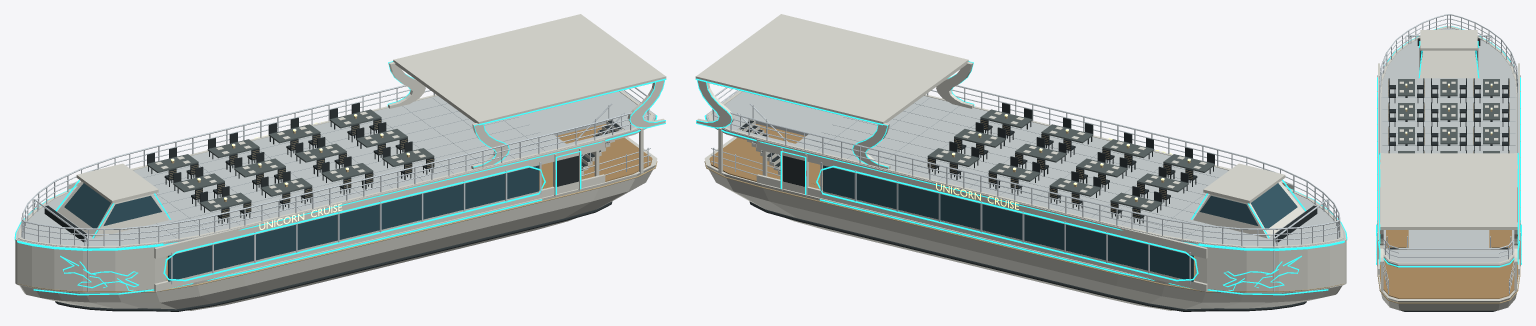
File: unicorn-exterior.glb
The picture shows the model from 3 angles, left to right: view 1: azimuth 30°, elevation 25°; view 2: azimuth 150°, elevation 25°; view 3: azimuth 270°, elevation 25°; orthographic projection. The views are drawn at different scales.
Visible parts, largest first — view 1: SM_UpperFloor_Floor, SM_Canopy_Pearl, SM_Hull_Pearl, SM_Cabin_Glass, SM_Cabin_Pearl, SM_UpperRails_Silver, SM_BowPanel_Pearl, SM_DecorFurniture_Cloth, SM_DecorFurniture_Dark, SM_Wheelhouse_Pearl, SM_LowerFloor_Wood, SM_UpperFloor_Pearl (+13 smaller); view 2: SM_UpperFloor_Floor, SM_Canopy_Pearl, SM_Hull_Pearl, SM_Cabin_Glass, SM_Cabin_Pearl, SM_UpperRails_Silver, SM_BowPanel_Pearl, SM_DecorFurniture_Cloth, SM_DecorFurniture_Dark, SM_Wheelhouse_Pearl, SM_LowerFloor_Wood, SM_UpperFloor_Pearl (+13 smaller); view 3: SM_UpperFloor_Floor, SM_Canopy_Pearl, SM_LowerFloor_Wood, SM_Wheelhouse_Pearl, SM_DecorFurniture_Cloth, SM_UpperRails_Silver, SM_DecorFurniture_Dark, SM_Hull_Pearl, SM_UpperFloor_Pearl, SM_Cabin_Pearl, SM_UpperFloor_Cyan, SM_DecorFurniture_Pearl (+8 smaller).
Part boxes in pixels (left/top/right/bottom): SM_UpperFloor_Floor: left=16, top=90, right=655, bottom=248; SM_Canopy_Pearl: left=388, top=14, right=666, bottom=169; SM_Hull_Pearl: left=19, top=136, right=657, bottom=310; SM_Cabin_Glass: left=168, top=165, right=538, bottom=281; SM_Cabin_Pearl: left=68, top=128, right=643, bottom=291; SM_UpperRails_Silver: left=21, top=85, right=649, bottom=246; SM_BowPanel_Pearl: left=15, top=202, right=166, bottom=292; SM_DecorFurniture_Cloth: left=147, top=109, right=434, bottom=211; SM_DecorFurniture_Dark: left=147, top=103, right=434, bottom=225; SM_Wheelhouse_Pearl: left=57, top=163, right=168, bottom=238; SM_LowerFloor_Wood: left=166, top=124, right=652, bottom=280; SM_UpperFloor_Pearl: left=18, top=91, right=653, bottom=247; SM_UpperFloor_Floor: left=706, top=90, right=1345, bottom=248; SM_Canopy_Pearl: left=695, top=14, right=973, bottom=169; SM_Hull_Pearl: left=704, top=136, right=1342, bottom=310; SM_Cabin_Glass: left=823, top=165, right=1193, bottom=281; SM_Cabin_Pearl: left=718, top=128, right=1293, bottom=291; SM_UpperRails_Silver: left=712, top=85, right=1340, bottom=246; SM_BowPanel_Pearl: left=1195, top=202, right=1346, bottom=292; SM_DecorFurniture_Cloth: left=927, top=109, right=1214, bottom=211; SM_DecorFurniture_Dark: left=927, top=103, right=1214, bottom=225; SM_Wheelhouse_Pearl: left=1193, top=163, right=1304, bottom=238; SM_LowerFloor_Wood: left=709, top=124, right=1195, bottom=280; SM_UpperFloor_Pearl: left=708, top=91, right=1343, bottom=247; SM_UpperFloor_Floor: left=1378, top=26, right=1519, bottom=267; SM_Canopy_Pearl: left=1380, top=153, right=1517, bottom=264; SM_LowerFloor_Wood: left=1379, top=230, right=1518, bottom=298; SM_Wheelhouse_Pearl: left=1419, top=30, right=1478, bottom=78; SM_DecorFurniture_Cloth: left=1398, top=79, right=1499, bottom=153; SM_UpperRails_Silver: left=1379, top=14, right=1518, bottom=259; SM_DecorFurniture_Dark: left=1388, top=78, right=1509, bottom=153; SM_Hull_Pearl: left=1378, top=274, right=1519, bottom=310; SM_UpperFloor_Pearl: left=1379, top=26, right=1518, bottom=267; SM_Cabin_Pearl: left=1377, top=63, right=1520, bottom=291; SM_UpperFloor_Cyan: left=1377, top=97, right=1520, bottom=267; SM_DecorFurniture_Pearl: left=1399, top=81, right=1498, bottom=140.
Size of the model in its own units: 40.04 by 8.16 by 10.28.
